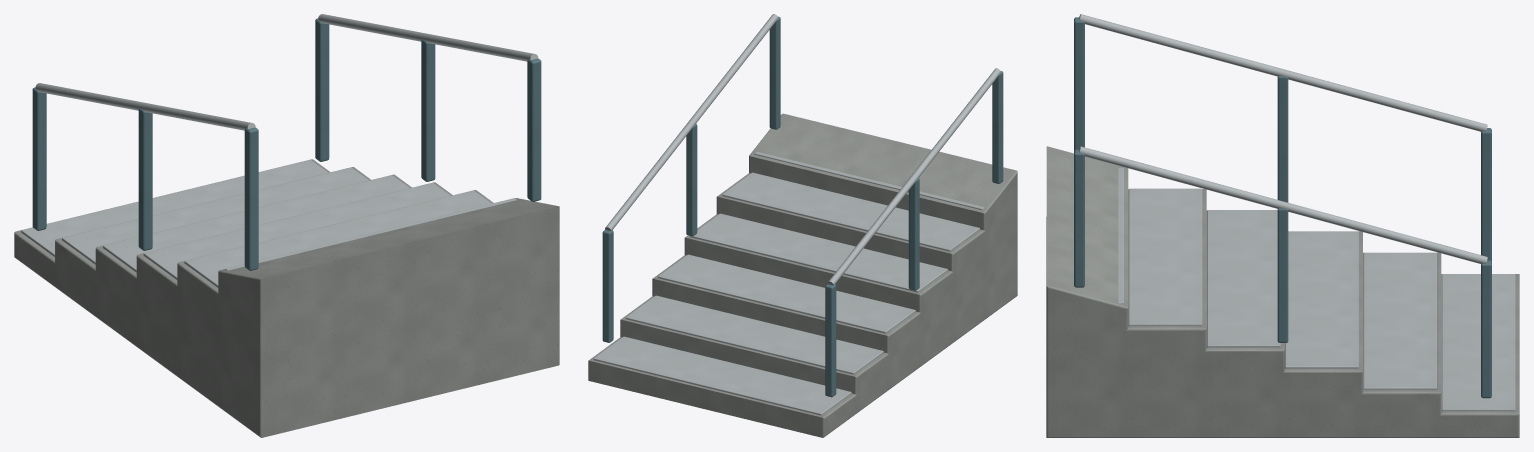
The model's file is gorgehold-survivor-gallery-and-operations-trail-galler-a01acdee__32874.glb.
3 views of the same model, side by side, from view 1: azimuth 30°, elevation 25°; view 2: azimuth 150°, elevation 25°; view 3: azimuth 270°, elevation 25° (orthographic). The views are drawn at different scales.
Parts seen in each view (by area): view 1: trail-gallery-stepped-transition; view 2: trail-gallery-stepped-transition; view 3: trail-gallery-stepped-transition.
Part boxes in pixels (x1,y1,x2,y2): trail-gallery-stepped-transition: (14,14,559,437); trail-gallery-stepped-transition: (588,14,1017,437); trail-gallery-stepped-transition: (1046,14,1519,437).
Size of the model in its own units: 2.12 by 2.03 by 3.02.
3 materials, 3 textured.
